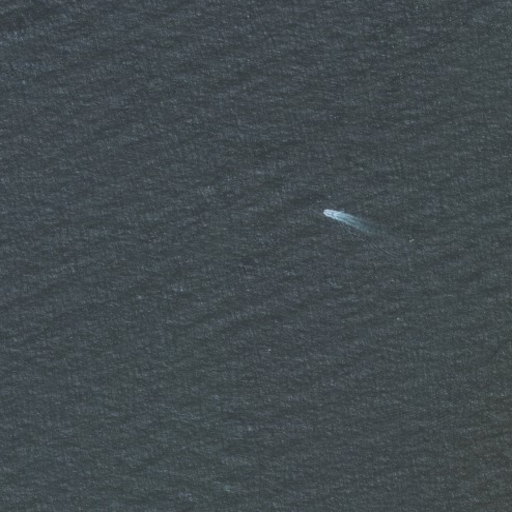ship: (321, 206, 339, 219)
